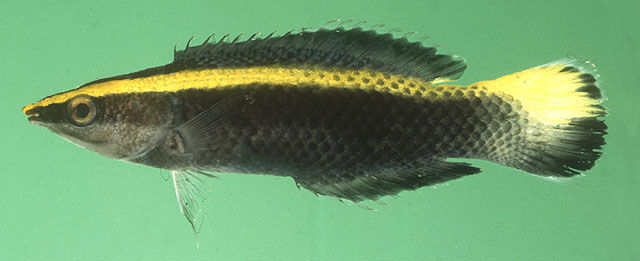fish: (22, 16, 609, 250)
